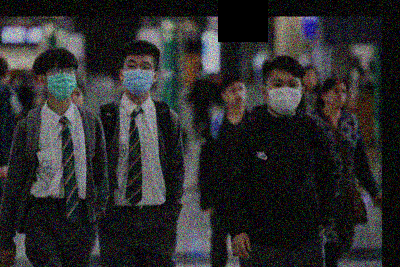with_mask: (266, 77, 302, 116), (43, 63, 78, 100), (122, 58, 154, 96)
without_mask: (226, 85, 247, 106), (327, 85, 347, 107)
